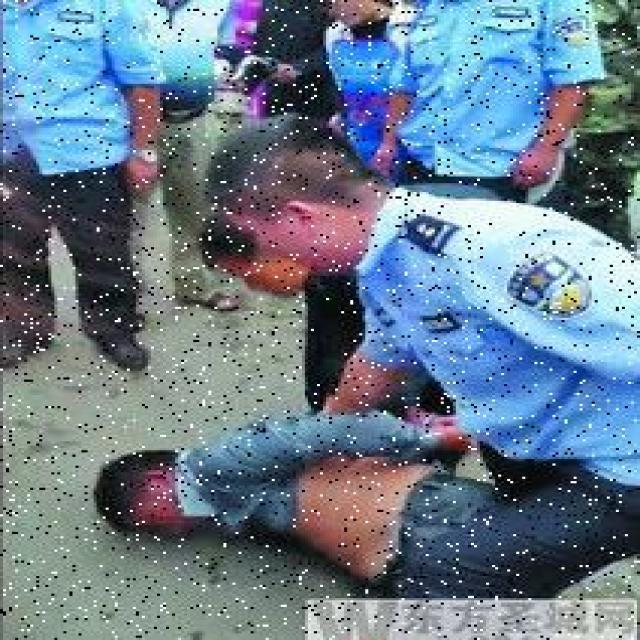fall: (78, 402, 470, 567)
